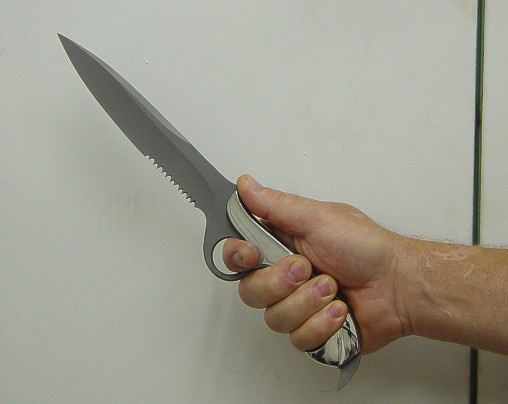knife: (54, 27, 351, 325)
